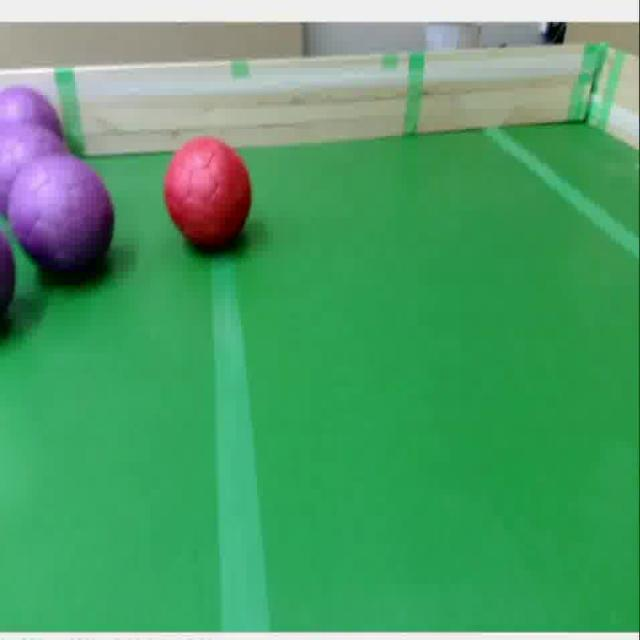purple_ball: (7, 157, 117, 278), (0, 122, 69, 220), (0, 86, 64, 128)
red_ball: (162, 135, 255, 256)
